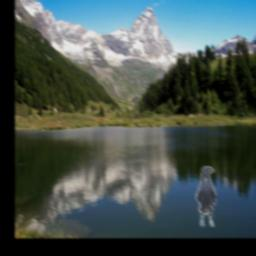Crow: (196, 166, 217, 227)
